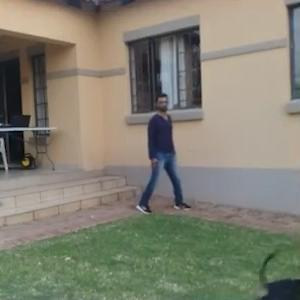follow: (143, 86, 183, 219)
